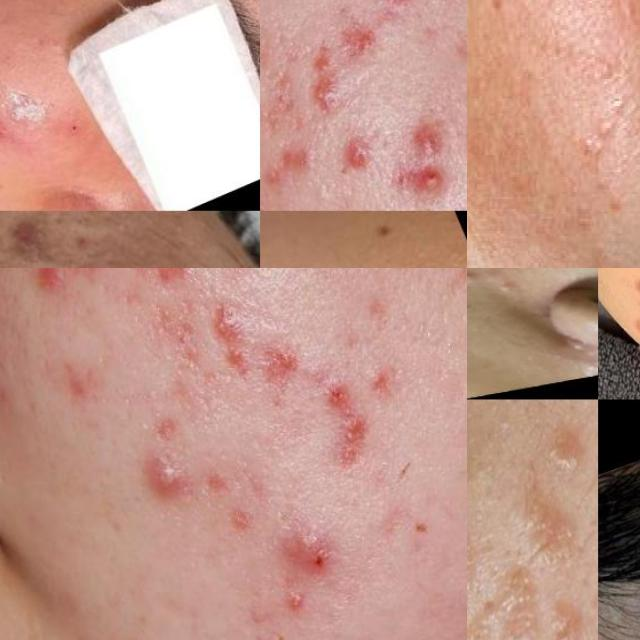acne_scars: (322, 374, 376, 468), (323, 0, 391, 55), (297, 29, 345, 104), (0, 210, 77, 256), (260, 55, 303, 127), (153, 313, 196, 383), (628, 268, 640, 302), (630, 306, 640, 344)
comedone: (484, 268, 524, 299)
flat_wart: (498, 446, 594, 602), (488, 556, 548, 640), (535, 583, 598, 640), (467, 512, 493, 625), (546, 428, 580, 473)
papule: (395, 96, 455, 171), (290, 524, 346, 586), (33, 268, 68, 316), (0, 95, 22, 163), (220, 268, 250, 285)
pustule: (126, 446, 216, 516)
